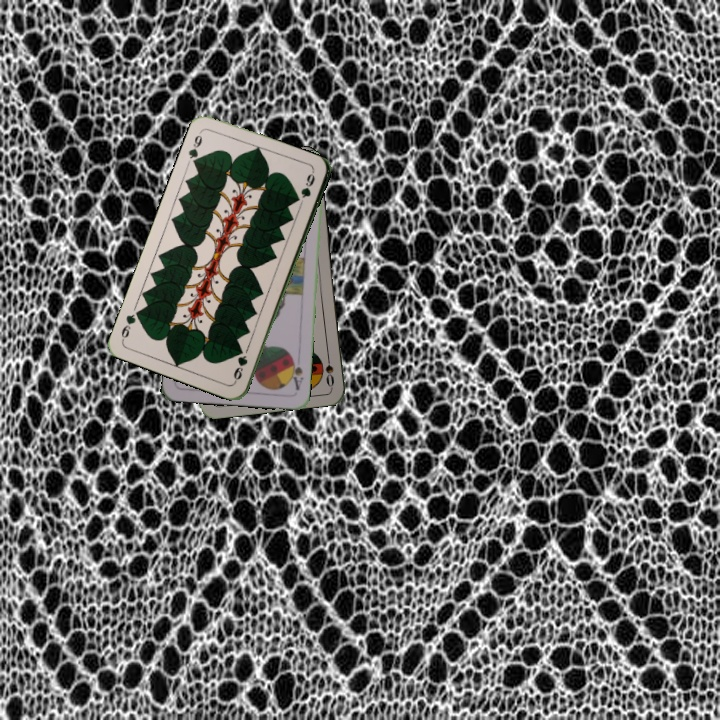G9: (184, 127, 205, 168), (229, 351, 250, 385)
SA: (286, 353, 306, 393)
SO: (321, 348, 337, 389)
